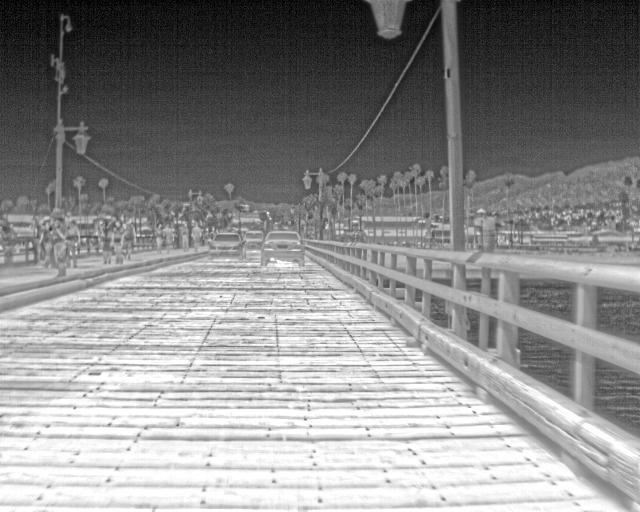bicycle: (260, 230, 304, 264), (207, 230, 245, 260), (242, 230, 265, 250)
empty: (63, 217, 81, 267), (51, 217, 66, 277), (121, 217, 138, 259), (111, 222, 127, 265), (158, 222, 176, 253), (99, 221, 112, 263), (190, 223, 206, 252)
